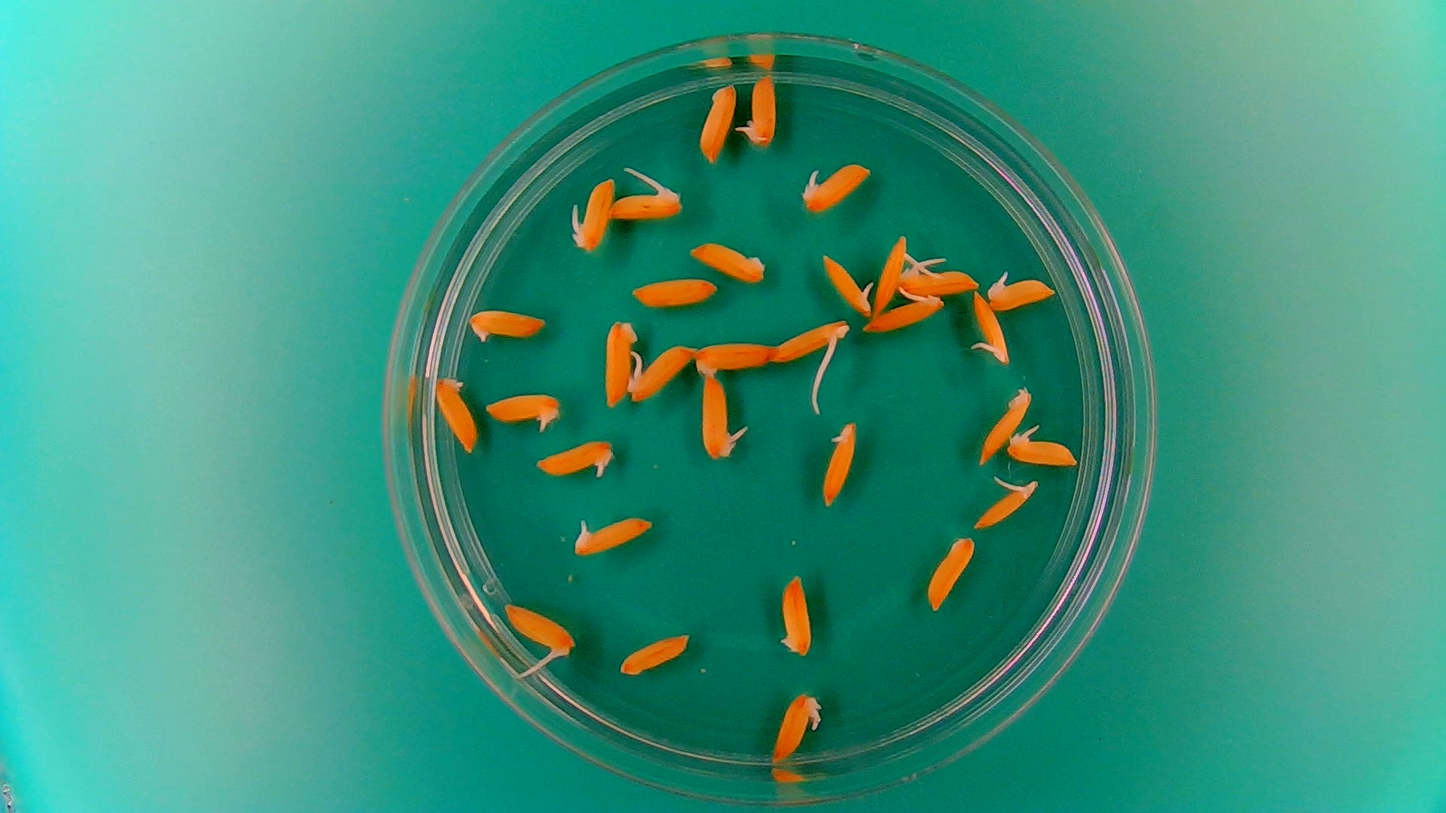no: (976, 382, 1031, 465), (925, 533, 976, 613), (685, 237, 769, 285), (599, 314, 641, 410), (615, 629, 694, 679), (432, 373, 480, 452), (691, 336, 776, 379), (696, 81, 738, 164), (628, 273, 718, 311), (776, 570, 814, 659)
yes: (627, 338, 698, 403), (500, 598, 574, 659), (796, 159, 875, 215), (767, 687, 823, 766), (765, 314, 853, 363), (481, 386, 565, 437), (818, 416, 863, 510), (972, 473, 1042, 532), (531, 434, 617, 482), (567, 172, 616, 254), (819, 250, 876, 320), (699, 370, 743, 459), (572, 513, 655, 560), (873, 230, 916, 316), (465, 303, 550, 345), (734, 69, 779, 148), (895, 260, 985, 298), (860, 296, 947, 335), (983, 267, 1060, 311), (1006, 425, 1081, 470), (969, 288, 1011, 367), (606, 185, 681, 221)
